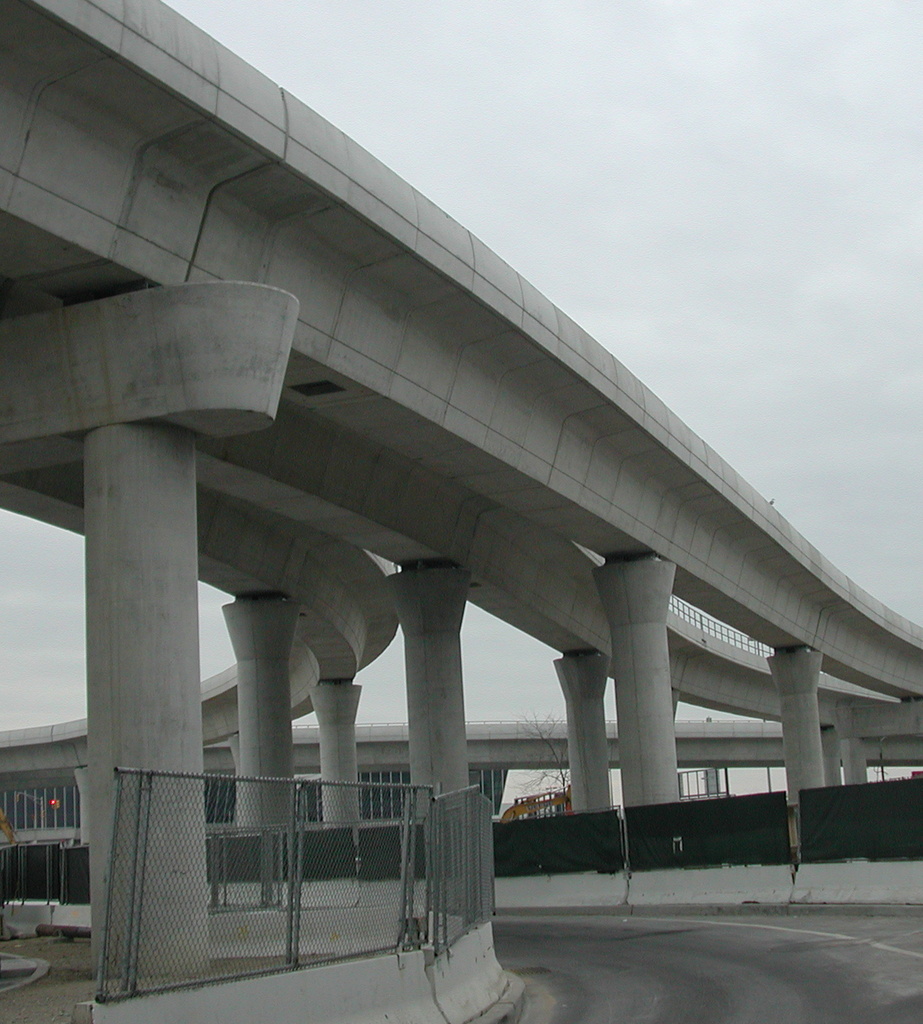Tree: (501, 708, 582, 814)
